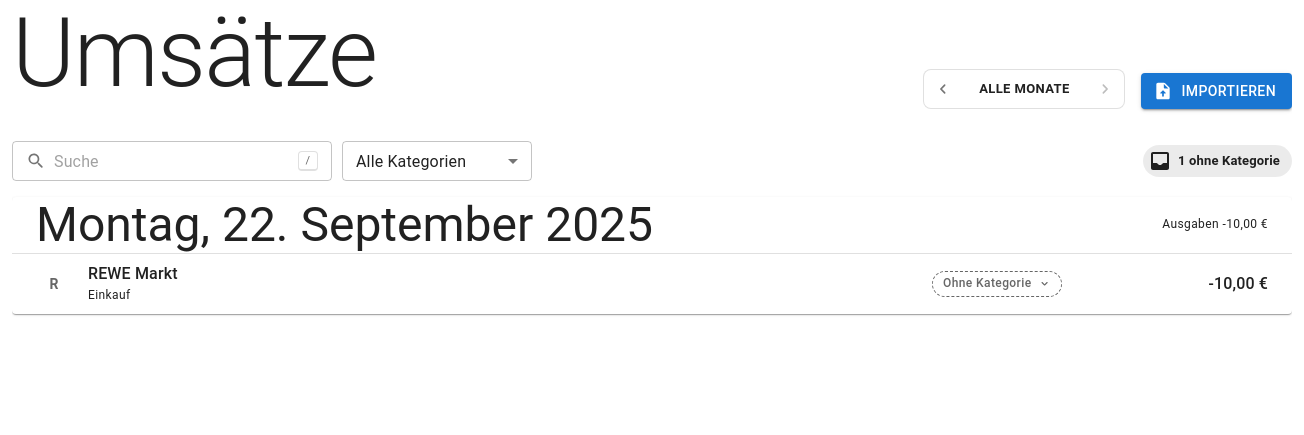
Test: TransactionsPage, „Immer so“ › offers nothing when the same rule is already there
Check: the dropdown named "Kategorie filtern" is shown, box left=356, top=152, right=466, bottom=170
Click the button with aria-label "Kategorie: Ohne Kategorie" at (997, 284), box left=932, top=271, right=1062, bottom=297
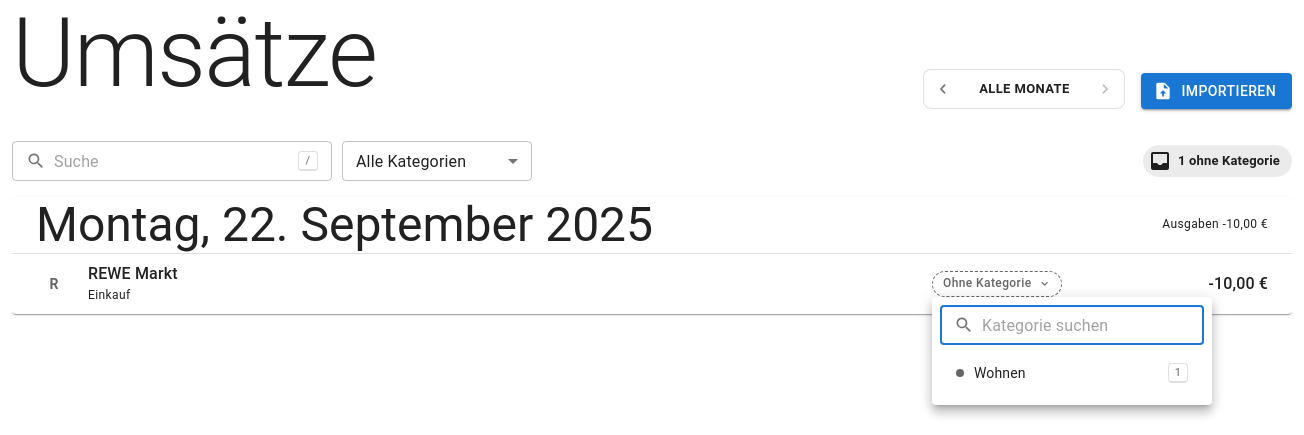
Click the menu item "Wohnen 1" at (1000, 373), box left=940, top=357, right=1204, bottom=389
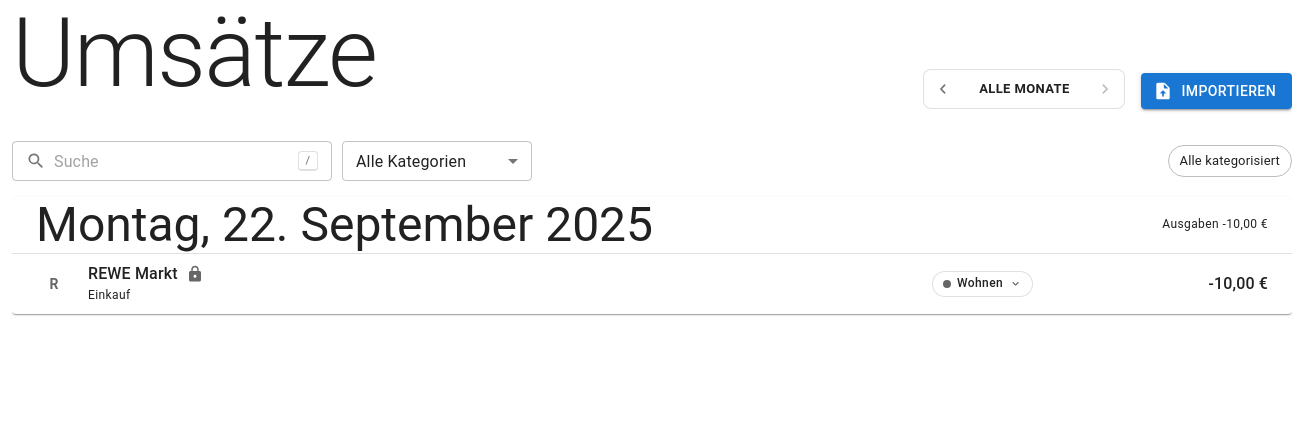
Check: the picture named "von Hand gesetzt" is shown, box left=186, top=265, right=204, bottom=283
